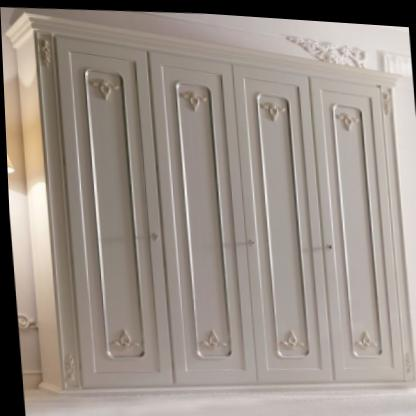Closet: (5, 13, 414, 394)
